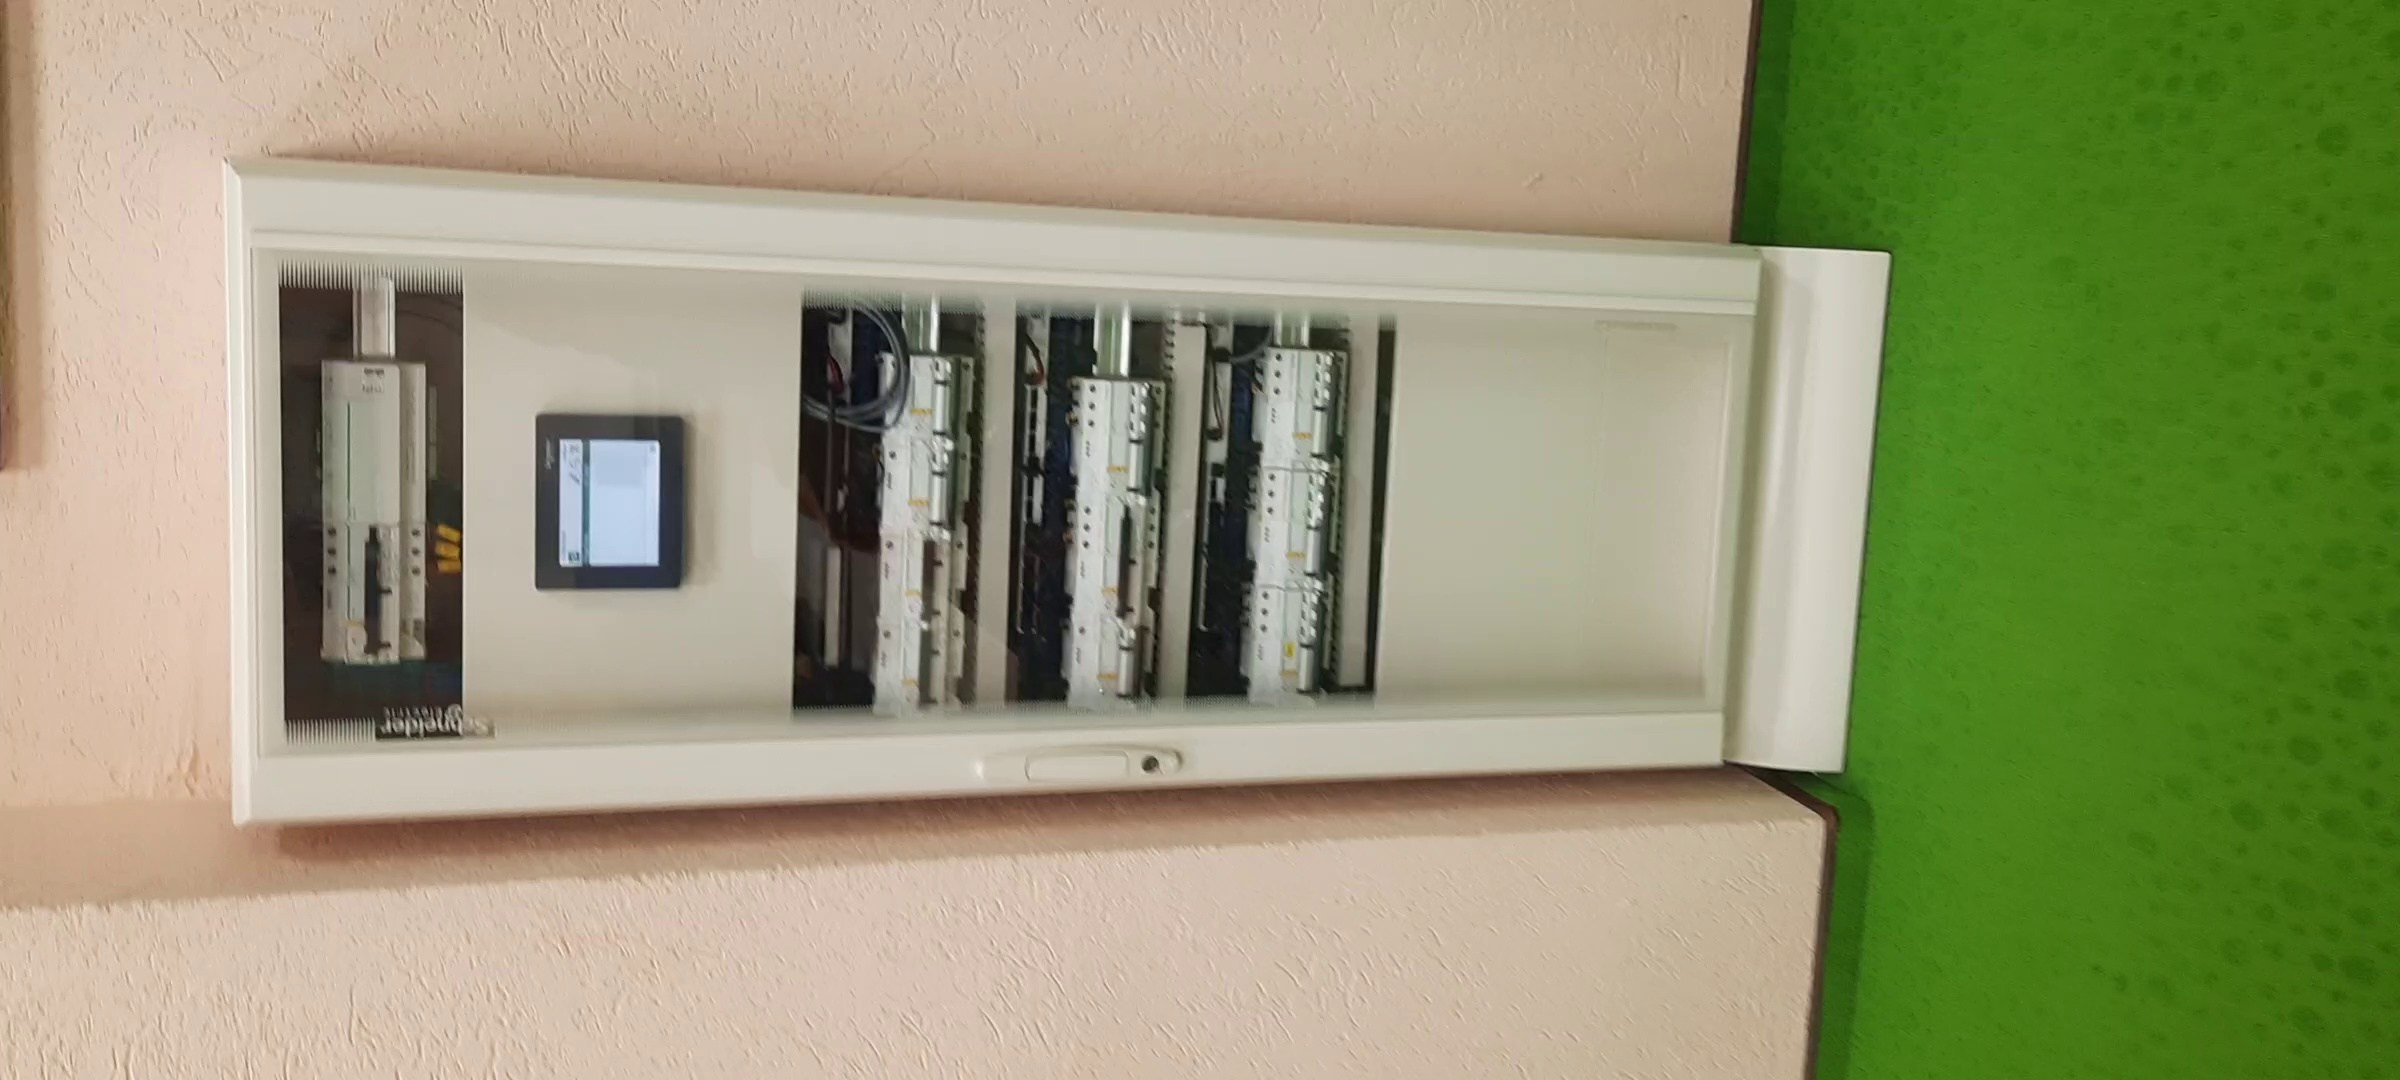smart_stand: (220, 185, 1887, 843)
